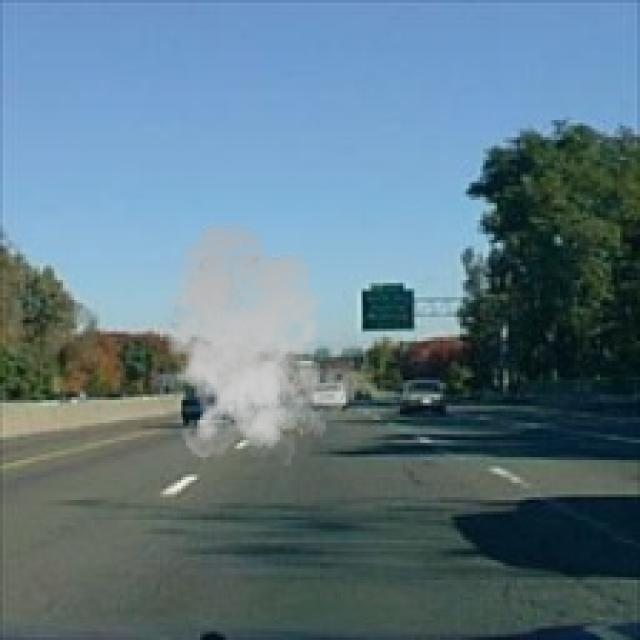Smoke: (146, 220, 348, 466)
